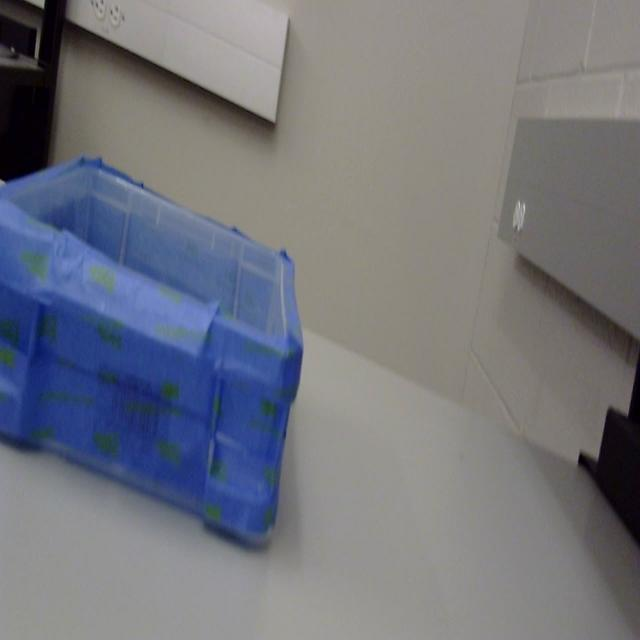bucket: (0, 158, 304, 554)
